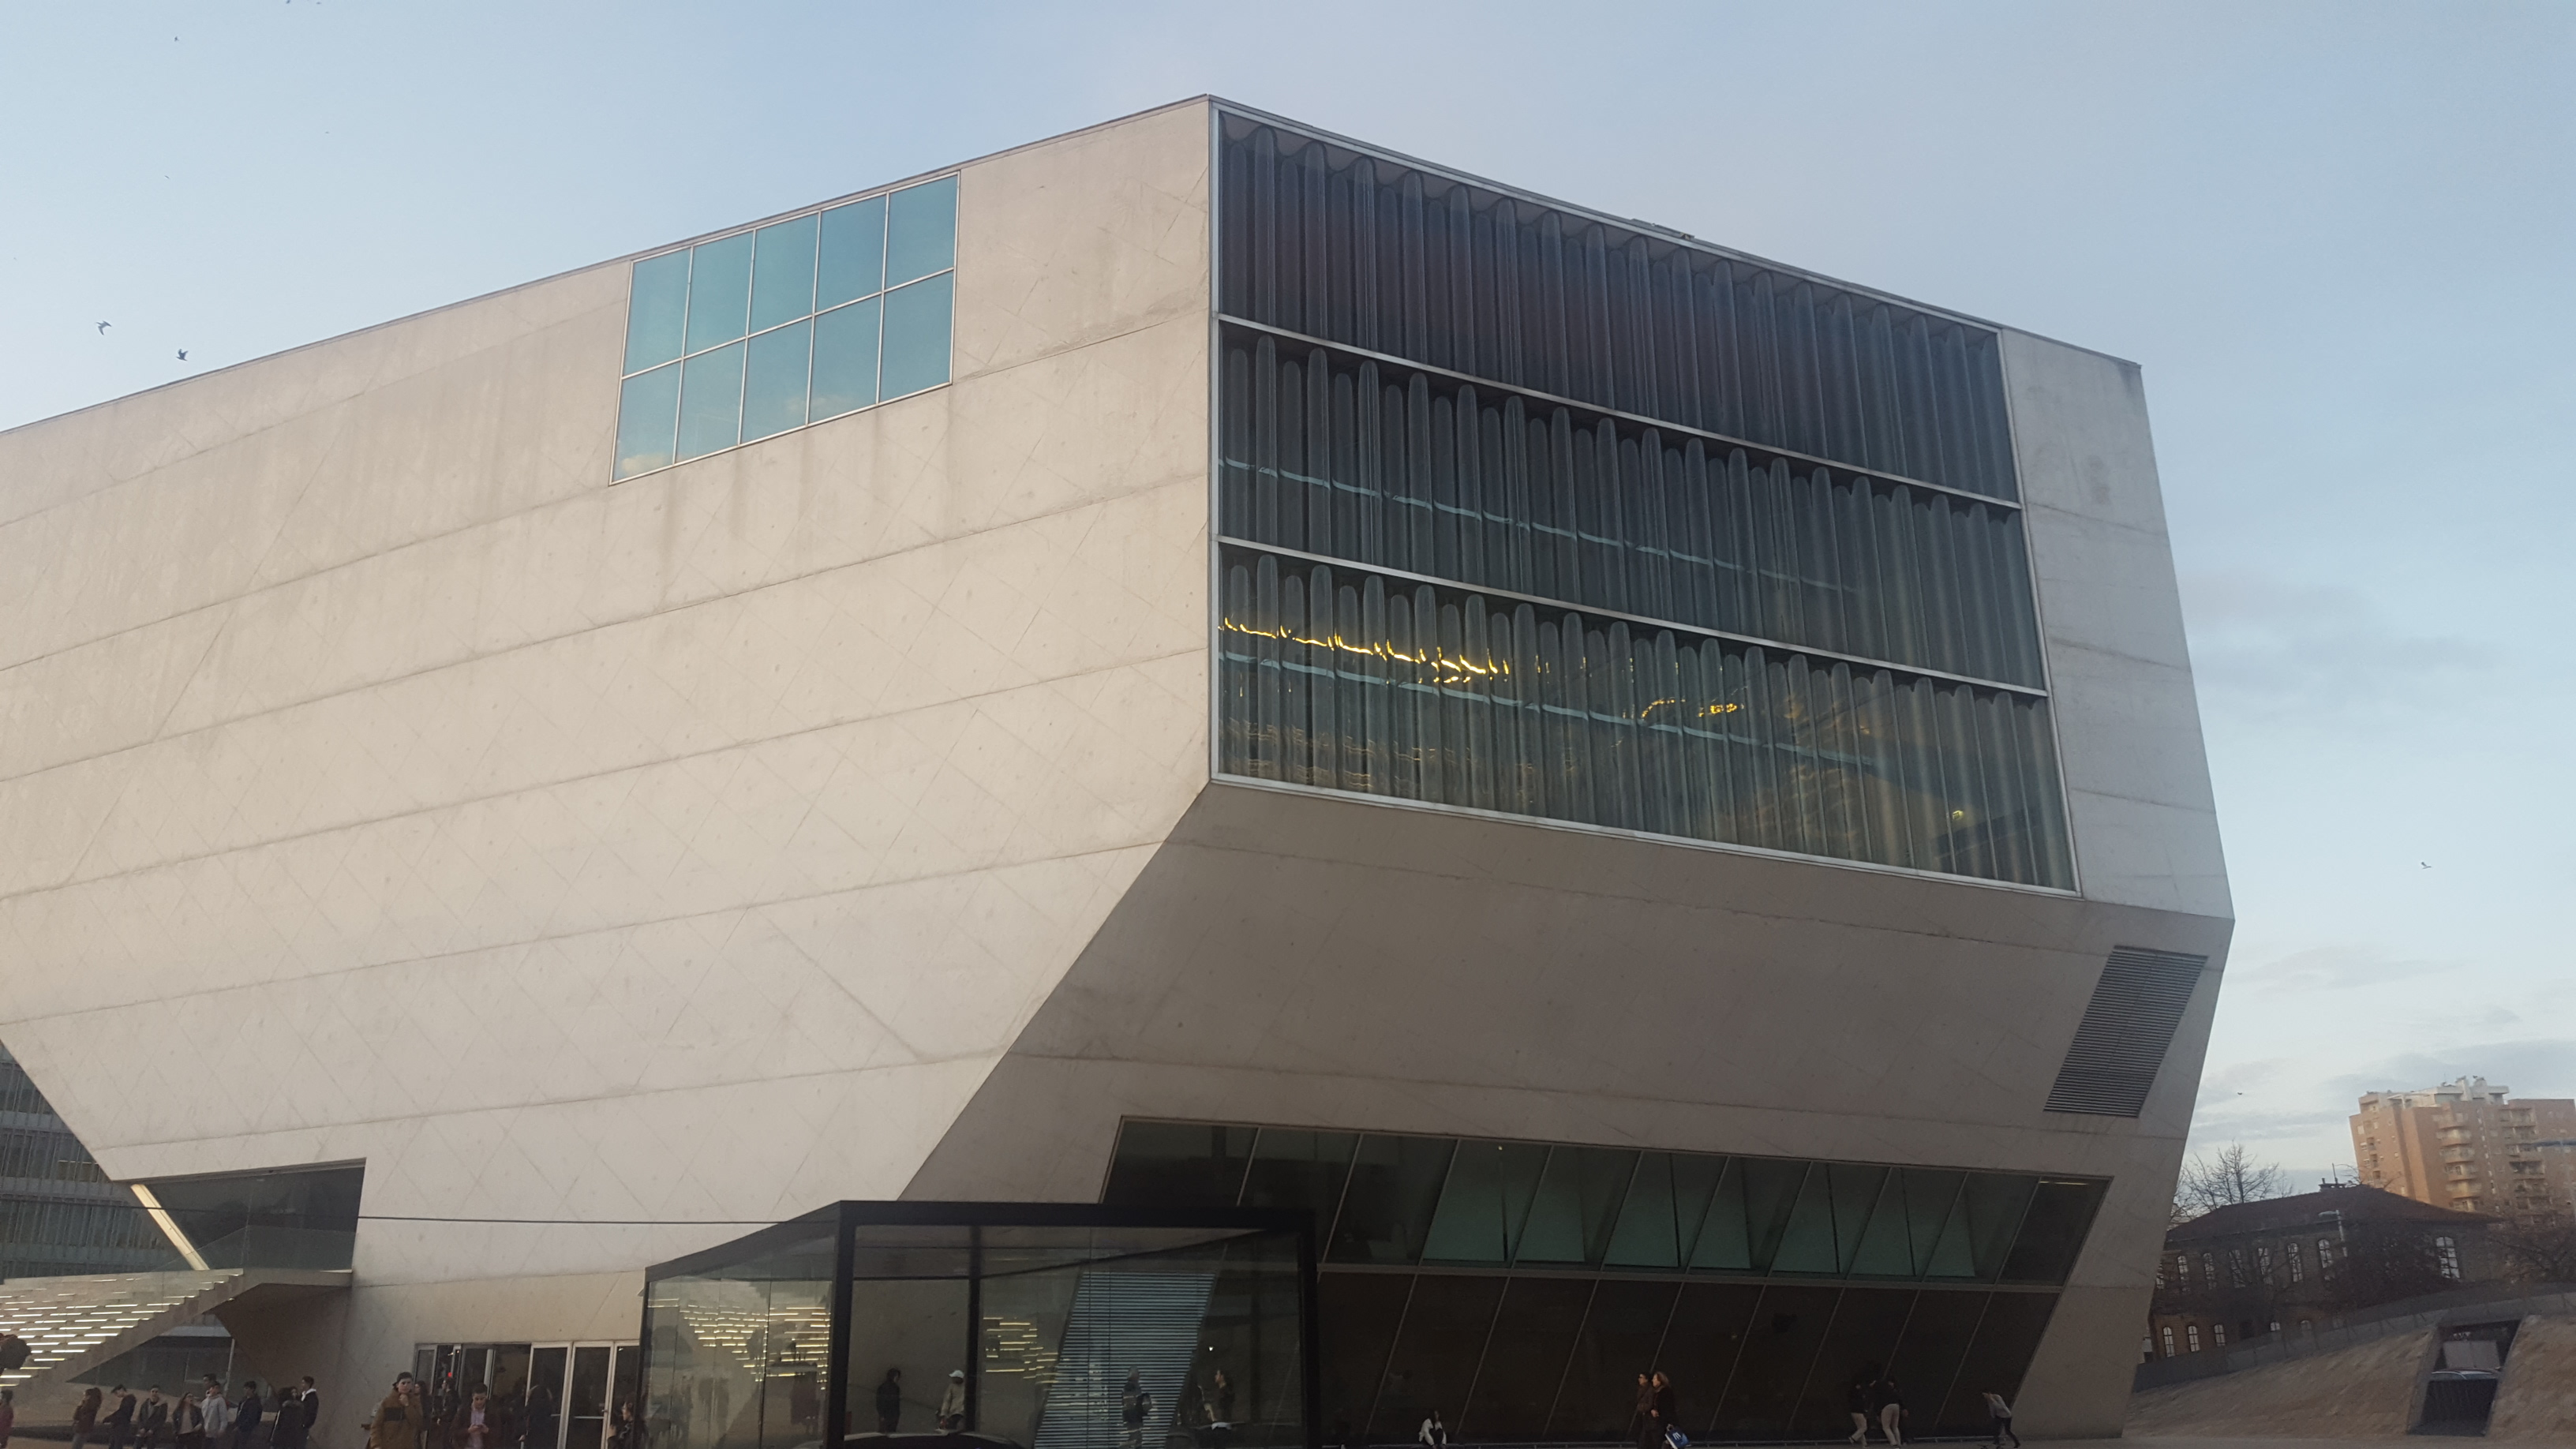musica: (0, 177, 2328, 1346)
